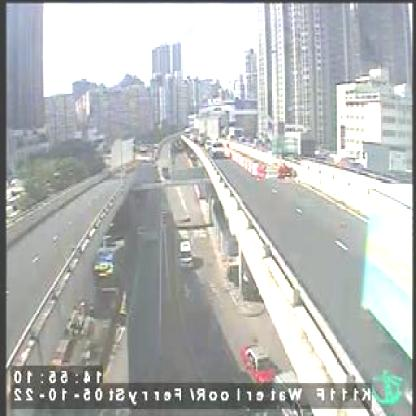Car: (240, 347, 280, 381), (179, 239, 194, 267)
